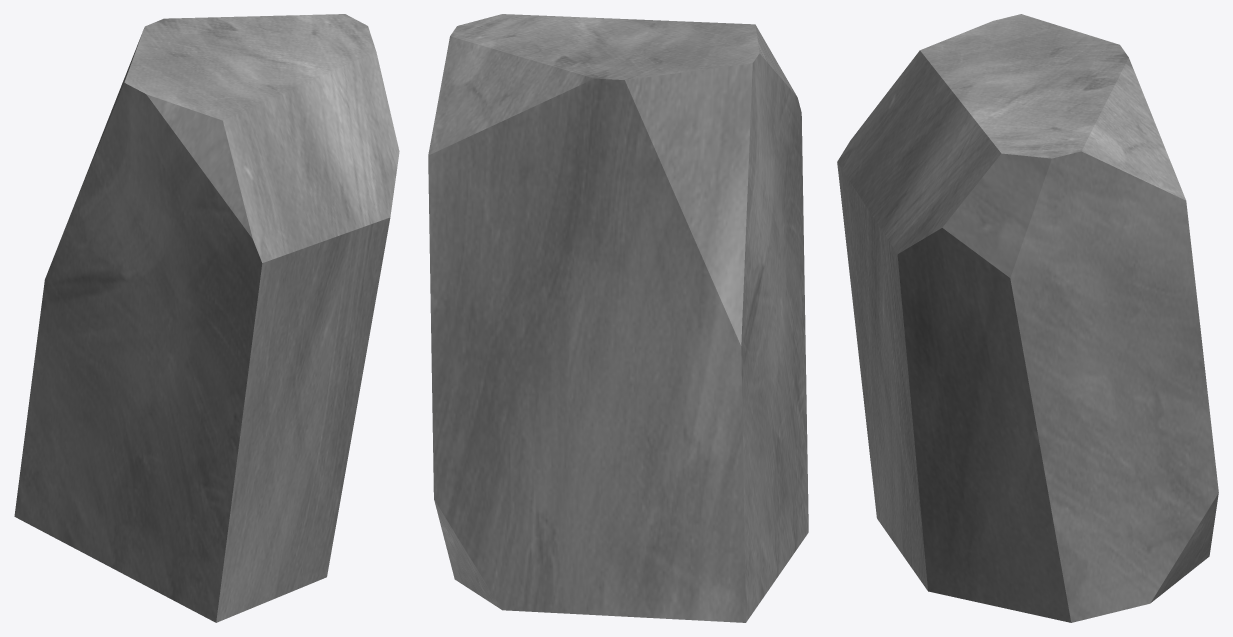
File: stone4.glb
The picture shows the model from 3 angles, left to right: view 1: azimuth 30°, elevation 25°; view 2: azimuth 150°, elevation 25°; view 3: azimuth 270°, elevation 25°; orthographic projection. The views are drawn at different scales.
Visible parts, largest first — view 1: stone3; view 2: stone3; view 3: stone3.
Part boxes in pixels (x1,y1,x2,y2): stone3: (14, 14, 399, 622); stone3: (428, 14, 808, 622); stone3: (837, 14, 1218, 622).
Size of the model in its own units: 1.21 by 1.82 by 1.25.
Materials: 1 (1 with a texture image).
